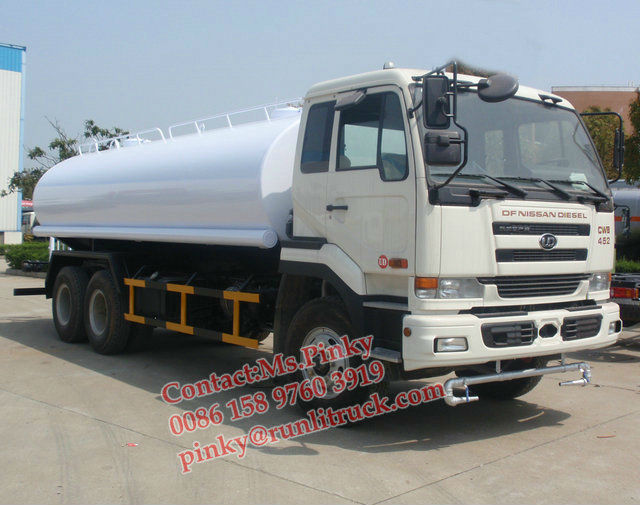truck: (24, 57, 622, 427)
